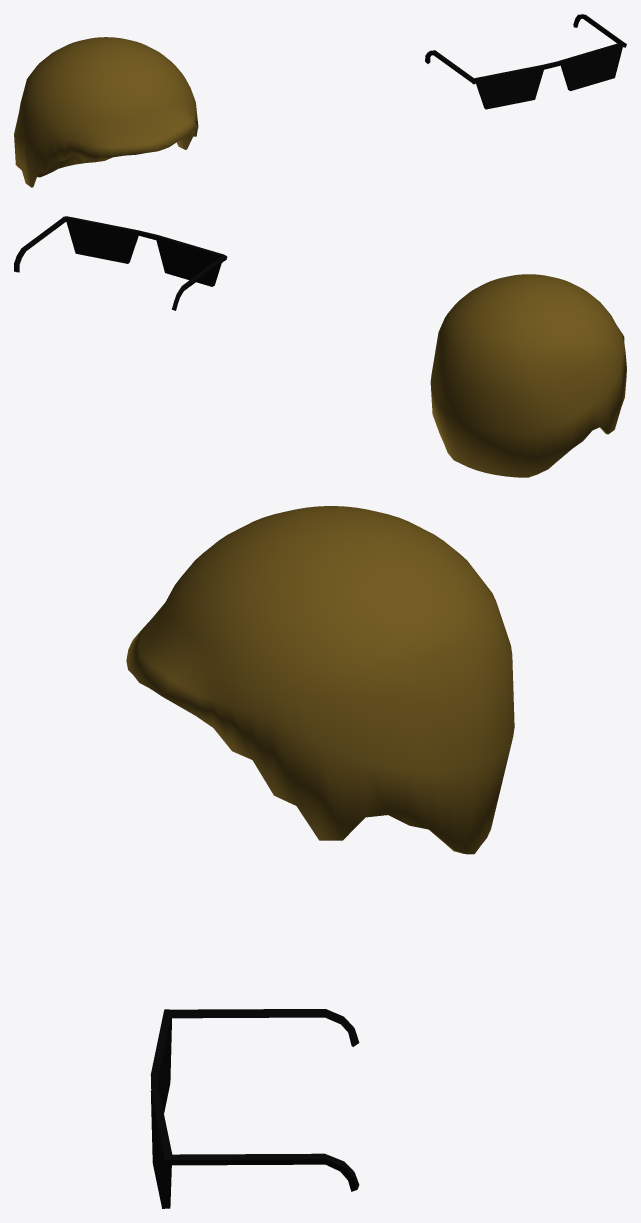
Rendered from pelo_JAVI.fbx.
The picture shows the model from 3 angles, top to bottom: view 1: azimuth 30°, elevation 25°; view 2: azimuth 150°, elevation 25°; view 3: azimuth 270°, elevation 25°; orthographic projection. The views are drawn at different scales.
Visible parts, largest first — view 1: Sphere, Cube, Cube.001; view 2: Sphere, Cube.001, Cube; view 3: Sphere, Cube.001, Cube.
Boxes of the visible parts, x1,y1,x2,y2 form: Sphere: (14,37,198,187); Cube: (425,50,563,109); Cube.001: (559,14,626,90); Sphere: (430,274,626,477); Cube.001: (14,216,138,272); Cube: (136,230,227,310); Sphere: (126,506,514,854); Cube.001: (150,1090,359,1208); Cube: (150,1009,359,1112).
Bounding box in the file's own units: 144 × 36.42 × 43.28.
